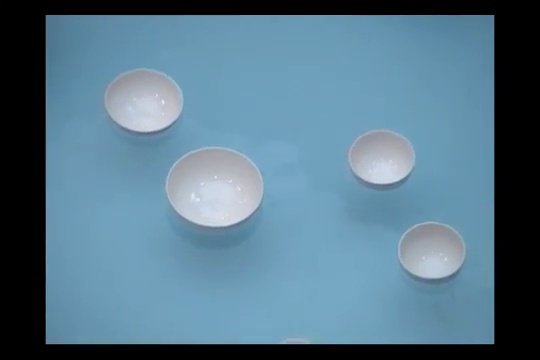bowl: (165, 146, 263, 234), (103, 68, 185, 136), (396, 220, 466, 284), (346, 128, 415, 191)
